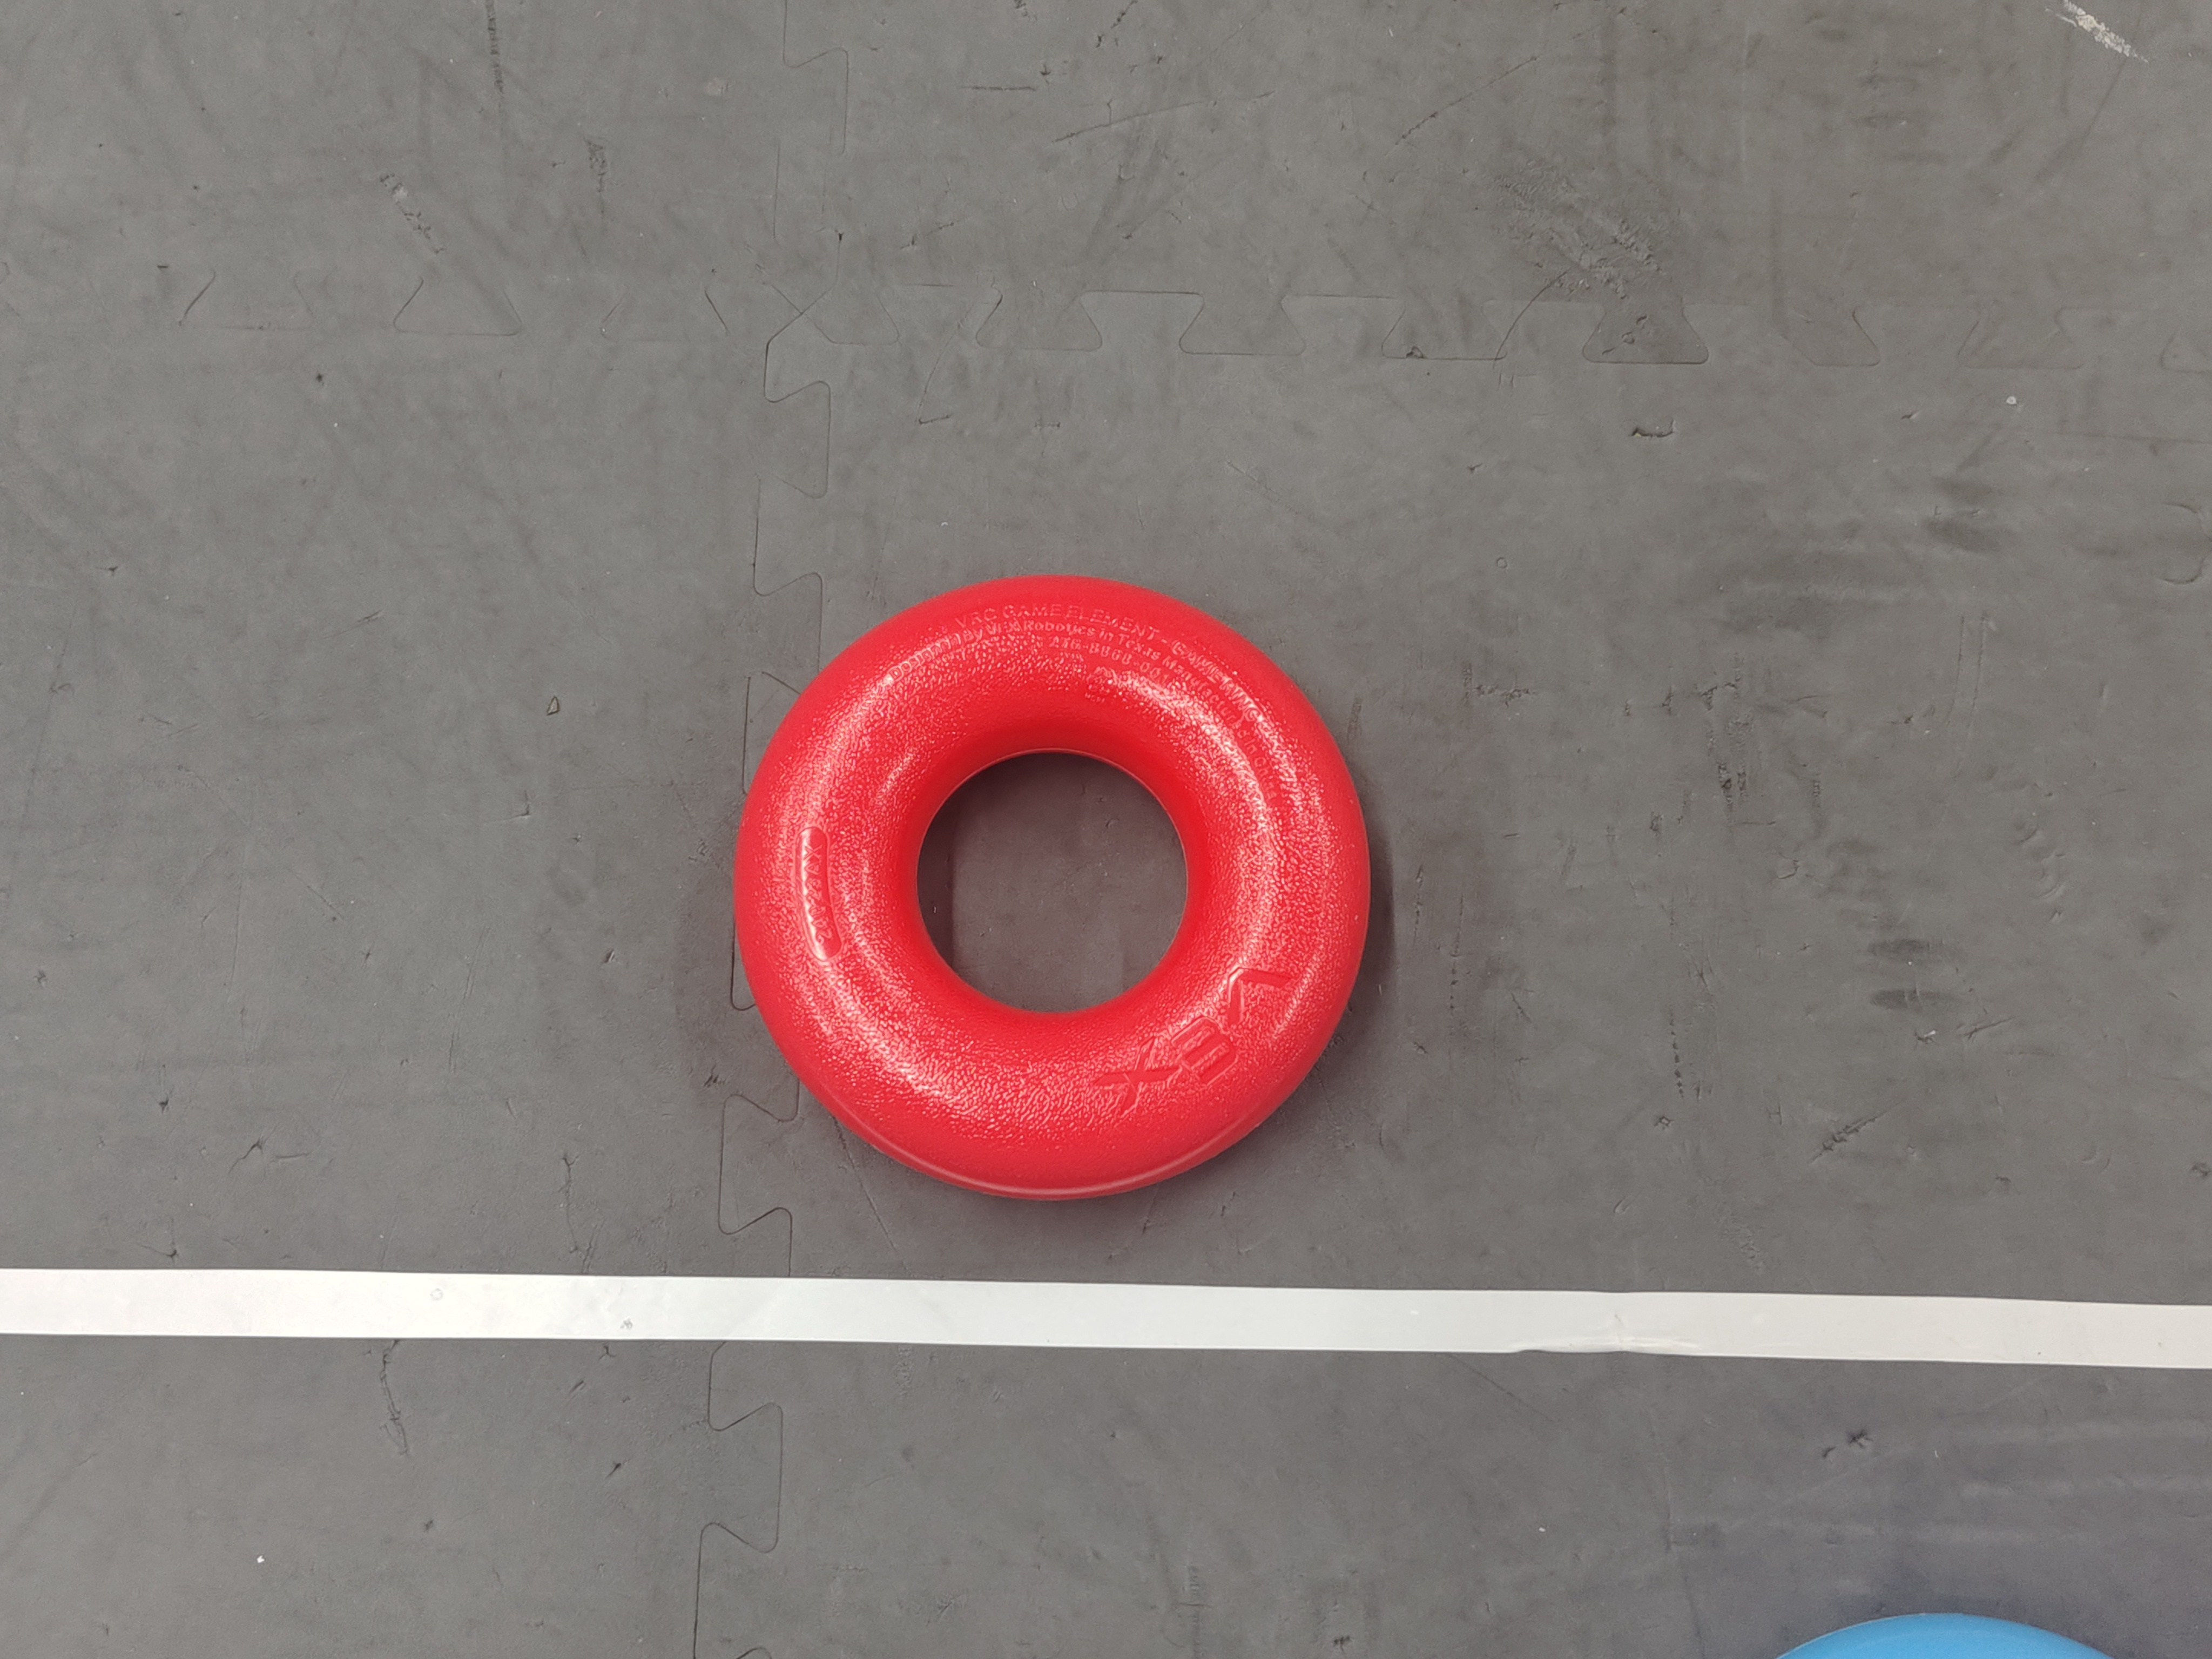red: (730, 563, 1378, 1208)
